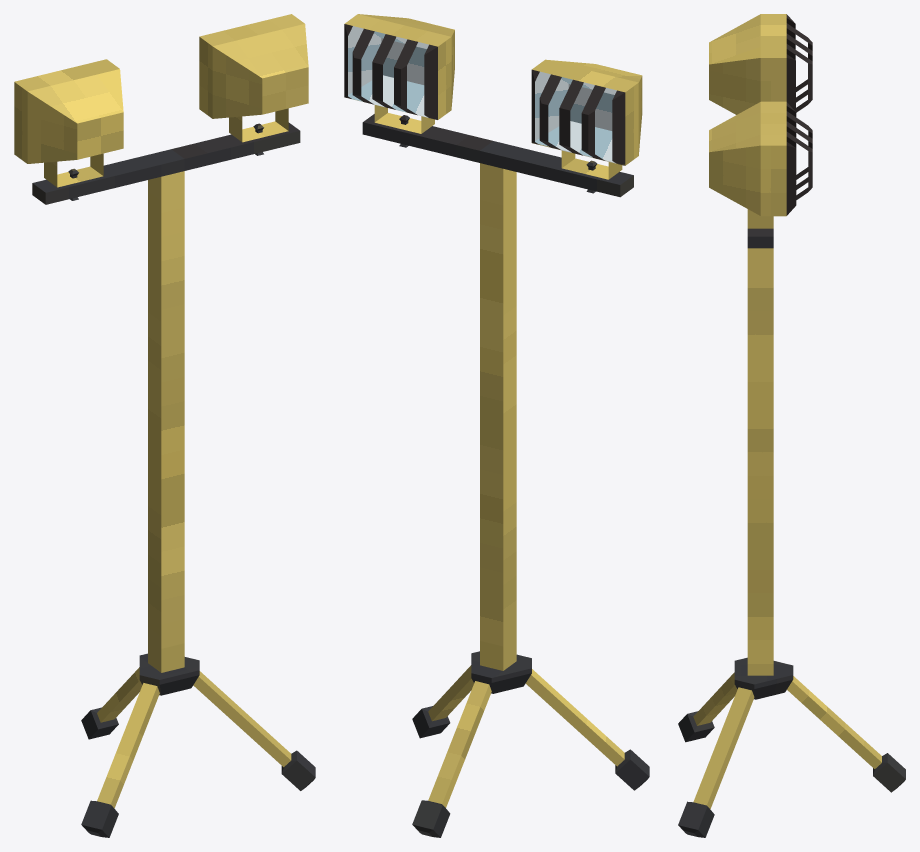
The model's file is ConstructionLamp.gltf.
3 renders of one model, left to right at view 1: azimuth 30°, elevation 25°; view 2: azimuth 150°, elevation 25°; view 3: azimuth 270°, elevation 25°, orthographic. The views are drawn at different scales.
Visible parts, largest first — view 1: Stand, LeftLamp, RightLamp, Leg (×3), Attachment (×2); view 2: Stand, Leg (×3), Grid (×2), RightLamp, LeftLamp, Attachment (×2); view 3: Stand, LeftLamp, Leg (×3), RightLamp, Grid (×2).
Boxes of the visible parts, x1,y1,x2,y2 form: Stand: (32, 122, 300, 695); LeftLamp: (199, 14, 308, 118); RightLamp: (14, 59, 123, 163); Leg (×3): (81, 667, 315, 837); Attachment (×2): (44, 108, 288, 187); Stand: (362, 114, 633, 693); Leg (×3): (412, 665, 649, 837); Grid (×2): (344, 24, 625, 165); RightLamp: (532, 59, 642, 165); LeftLamp: (344, 14, 454, 119); Attachment (×2): (374, 105, 622, 179); Stand: (734, 228, 793, 699); LeftLamp: (709, 101, 786, 216); Leg (×3): (678, 672, 905, 837); RightLamp: (709, 14, 786, 114); Grid (×2): (786, 14, 812, 215).
Bounding box in the file's own units: 0.75 × 1.88 × 0.549.
1 material, 1 textured.
